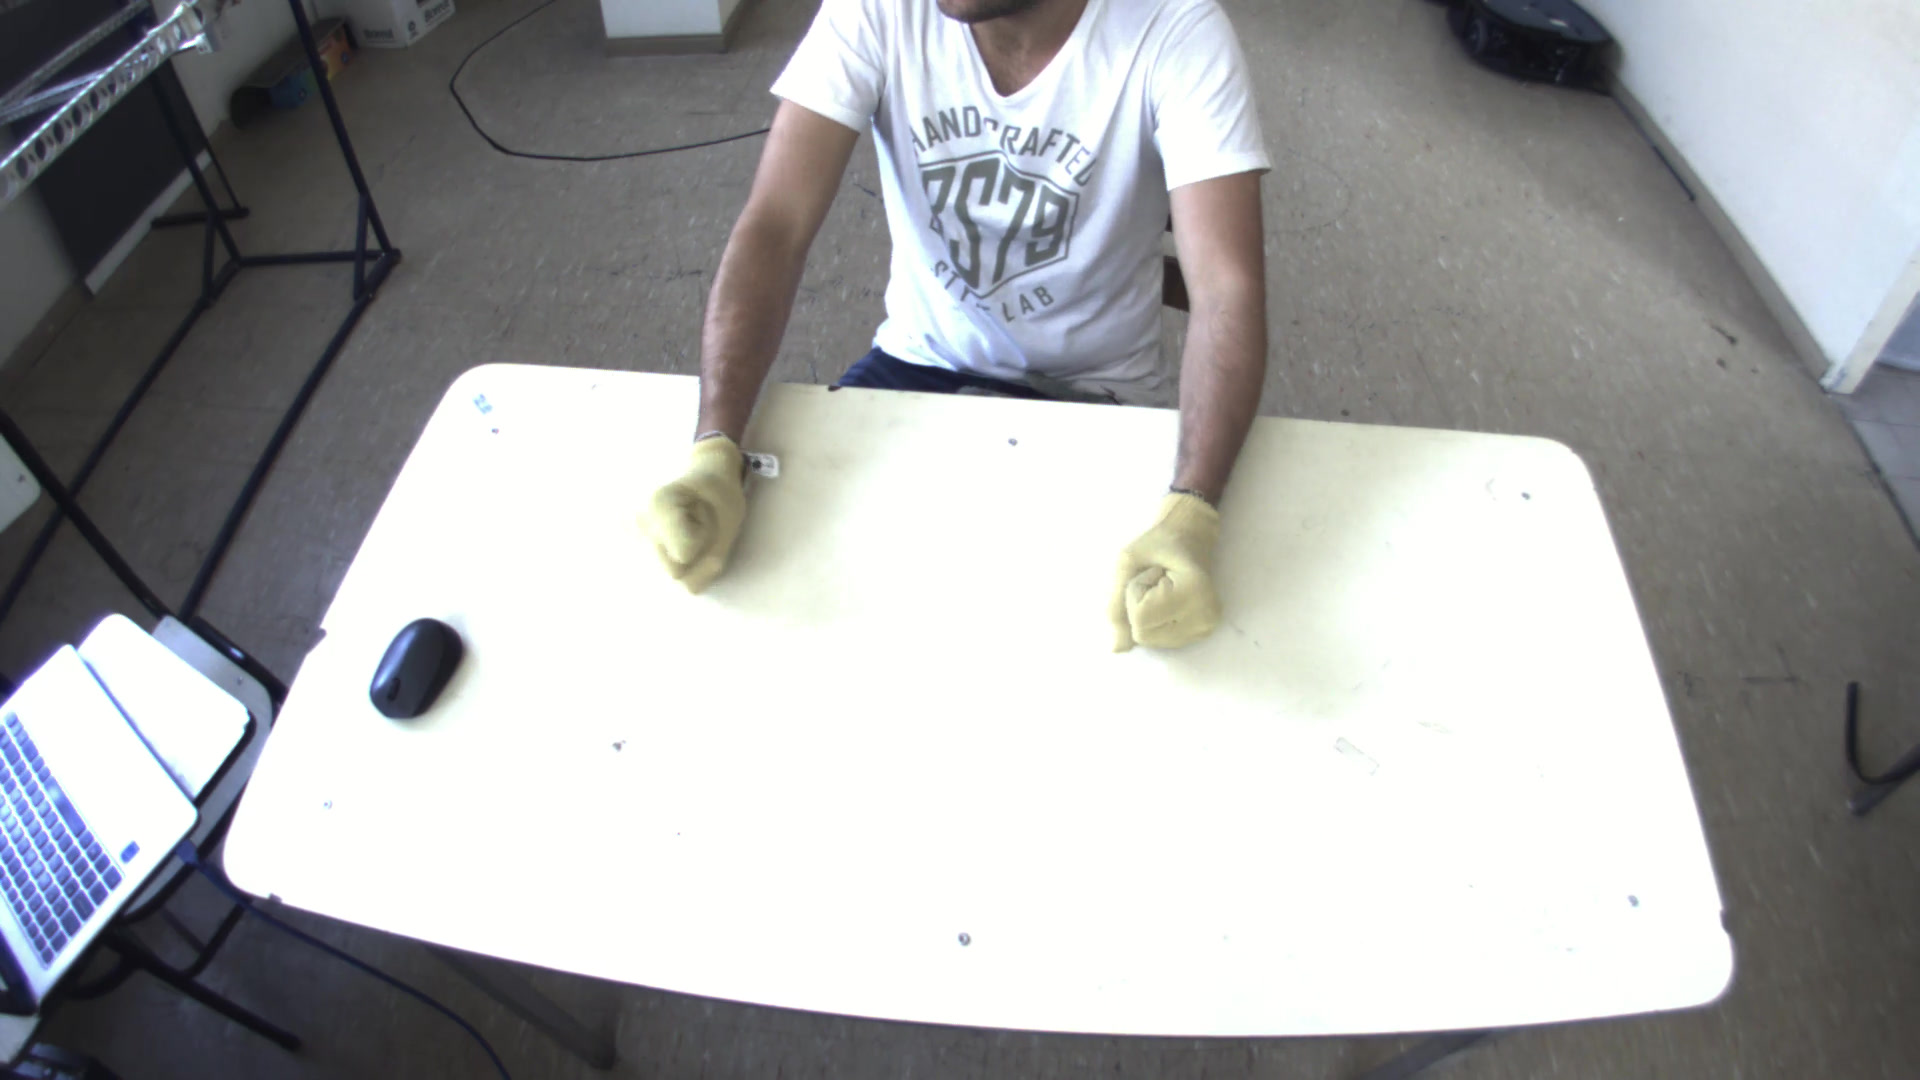hand: (1101, 477, 1245, 657), (628, 422, 760, 601)
